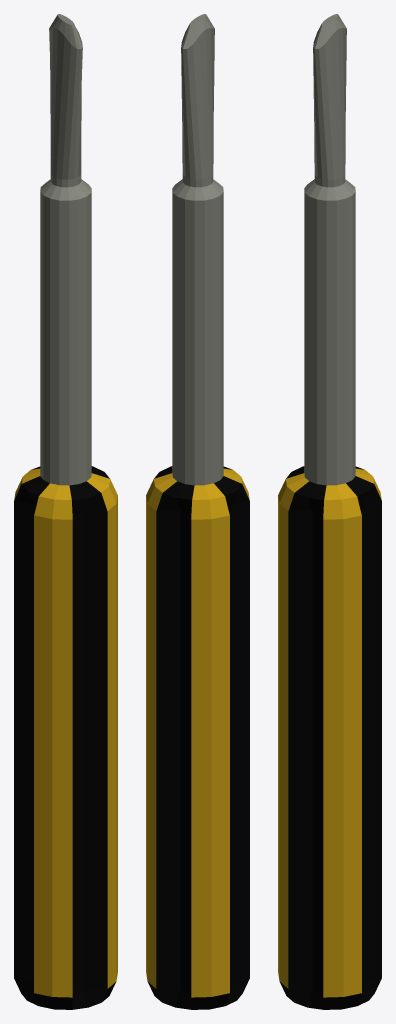
The model's file is Destornillador.fbx.
3 views of the same model, side by side, from view 1: azimuth 30°, elevation 25°; view 2: azimuth 150°, elevation 25°; view 3: azimuth 330°, elevation 25° (orthographic).
Visible parts, largest first — view 1: Cylinder; view 2: Cylinder; view 3: Cylinder.
Boxes of the visible parts, box(x1,y1,x2,y2) form: Cylinder: box(14, 14, 117, 1009); Cylinder: box(146, 14, 249, 1009); Cylinder: box(278, 14, 381, 1009).
Bounding box in the file's own units: 32.75 × 365 × 32.75.
